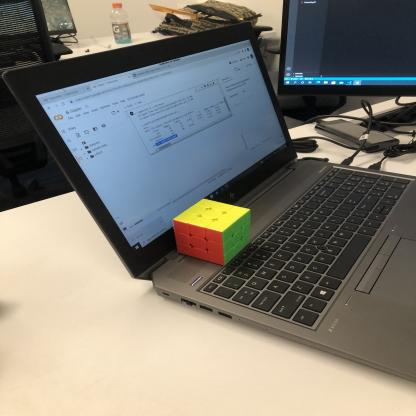SolvedCube: (174, 193, 255, 266)
